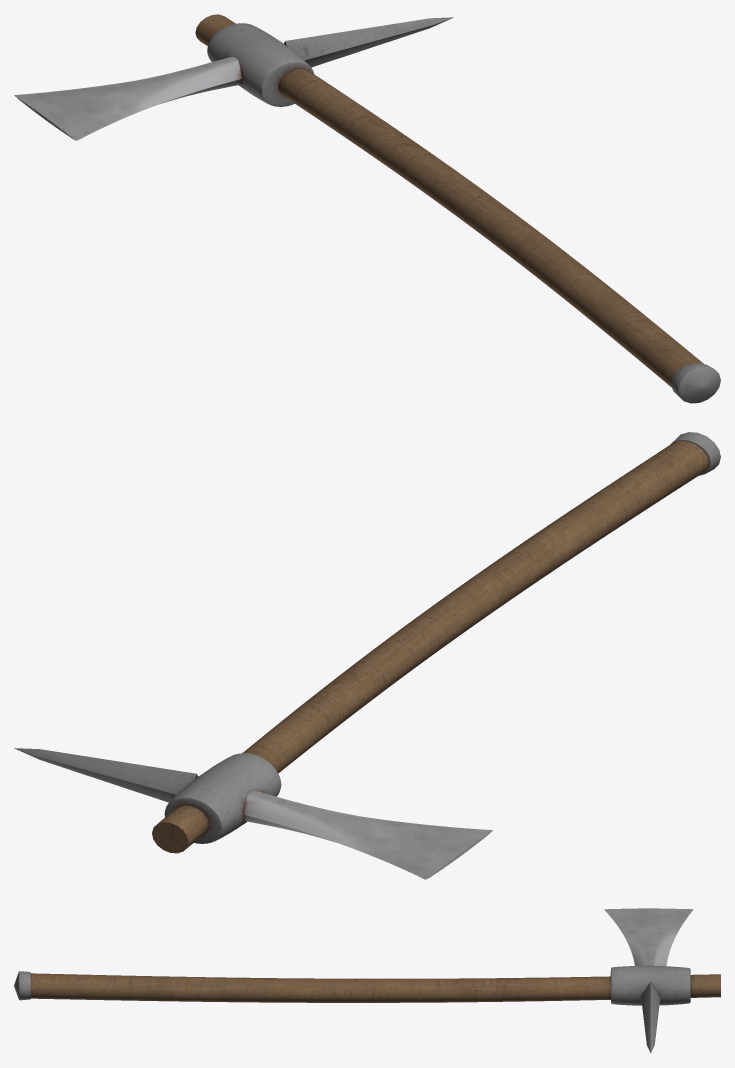
Rendered from dolabra.glb.
The picture shows the model from 3 angles, top to bottom: view 1: azimuth 30°, elevation 25°; view 2: azimuth 150°, elevation 25°; view 3: azimuth 270°, elevation 25°; orthographic projection. The views are drawn at different scales.
Visible parts, largest first — view 1: dolabra; view 2: dolabra; view 3: dolabra.
Part boxes in pixels (x1,y1,x2,y2): dolabra: (14, 14, 720, 403); dolabra: (14, 432, 720, 879); dolabra: (14, 908, 720, 1053).
Bounding box in the file's own units: 0.34 × 0.0378 × 0.705.
Materials: 1 (1 with a texture image).
